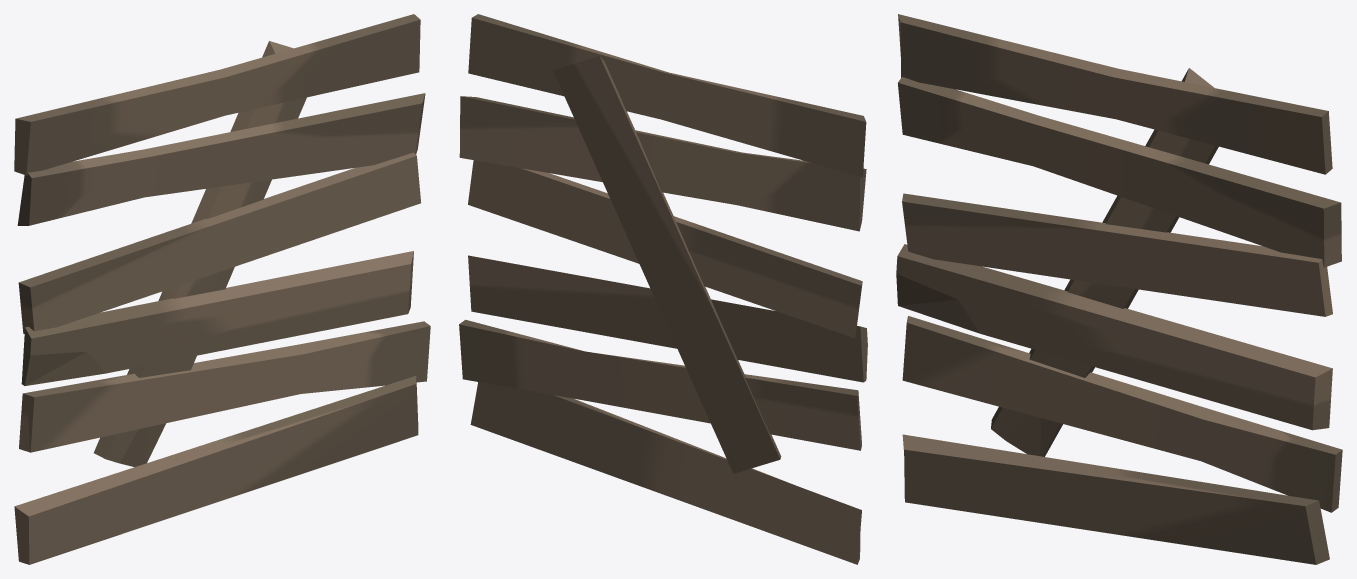
The model's file is SM_Prop_Barricade_08.obj.
3 renders of one model, left to right at view 1: azimuth 30°, elevation 25°; view 2: azimuth 150°, elevation 25°; view 3: azimuth 330°, elevation 25°, orthographic. The views are drawn at different scales.
Parts seen in each view (by area): view 1: SM_Prop_Barricade_08_0; view 2: SM_Prop_Barricade_08_0; view 3: SM_Prop_Barricade_08_0.
Part boxes in pixels (bbox=[...]): SM_Prop_Barricade_08_0: bbox=[14, 14, 430, 564]; SM_Prop_Barricade_08_0: bbox=[459, 14, 867, 564]; SM_Prop_Barricade_08_0: bbox=[896, 14, 1342, 564].
Size of the model in its own units: 1.55 by 1.64 by 0.13.
Materials: 1 (1 with a texture image).
